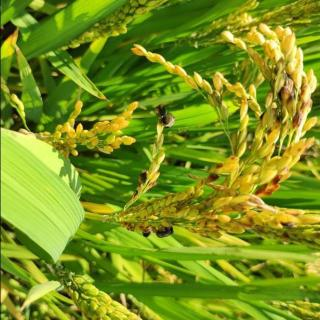Gosong-Palsu: (155, 104, 175, 128), (155, 222, 174, 240), (136, 171, 150, 186)
